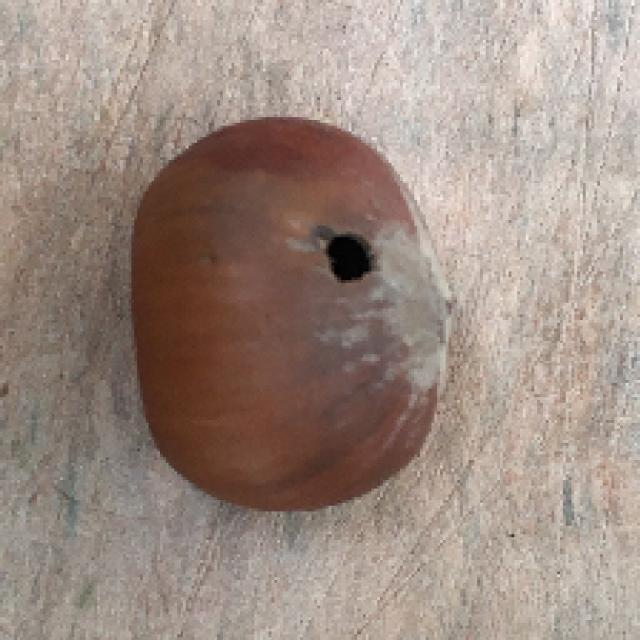DamagedHazelnut: (131, 115, 454, 510)
